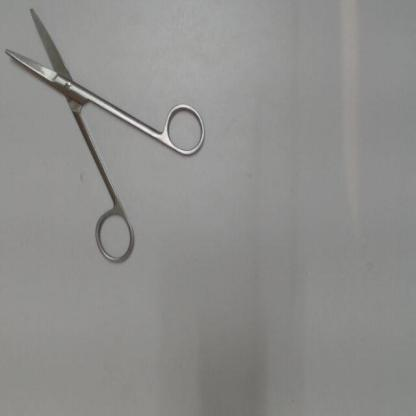Curved Mayo Scissors: (2, 4, 210, 273)
